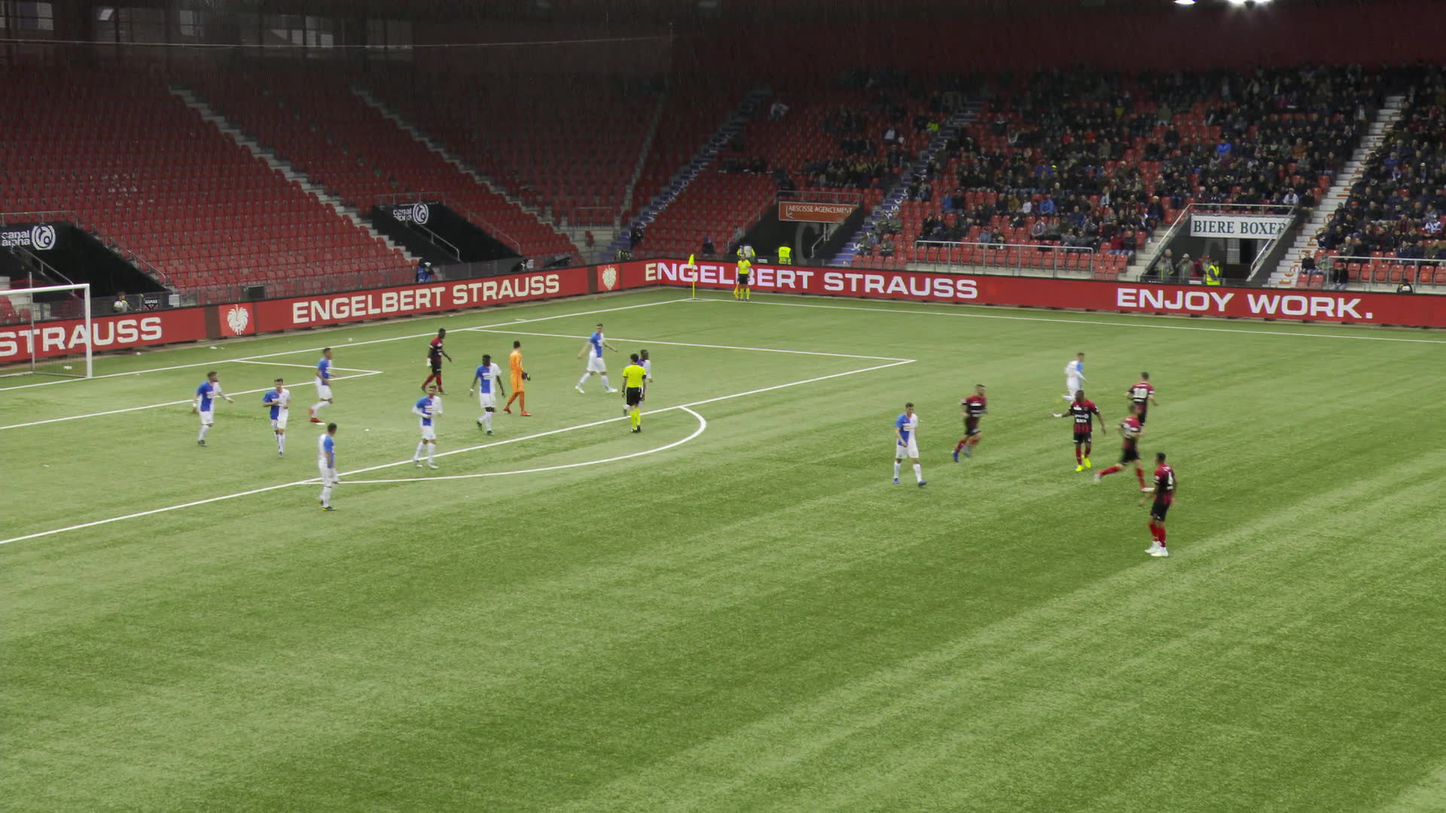player: (1130, 450, 1179, 557), (1048, 388, 1103, 471), (1098, 403, 1146, 495), (303, 420, 343, 512), (464, 352, 506, 437), (944, 383, 987, 464), (188, 370, 228, 448), (295, 345, 335, 422), (574, 321, 615, 393), (888, 399, 921, 486), (1121, 370, 1155, 453), (407, 385, 441, 468), (1048, 348, 1087, 416), (258, 378, 290, 456), (501, 337, 532, 416), (616, 346, 649, 418), (416, 326, 449, 394)
referee: (618, 352, 646, 433), (732, 251, 749, 300)
